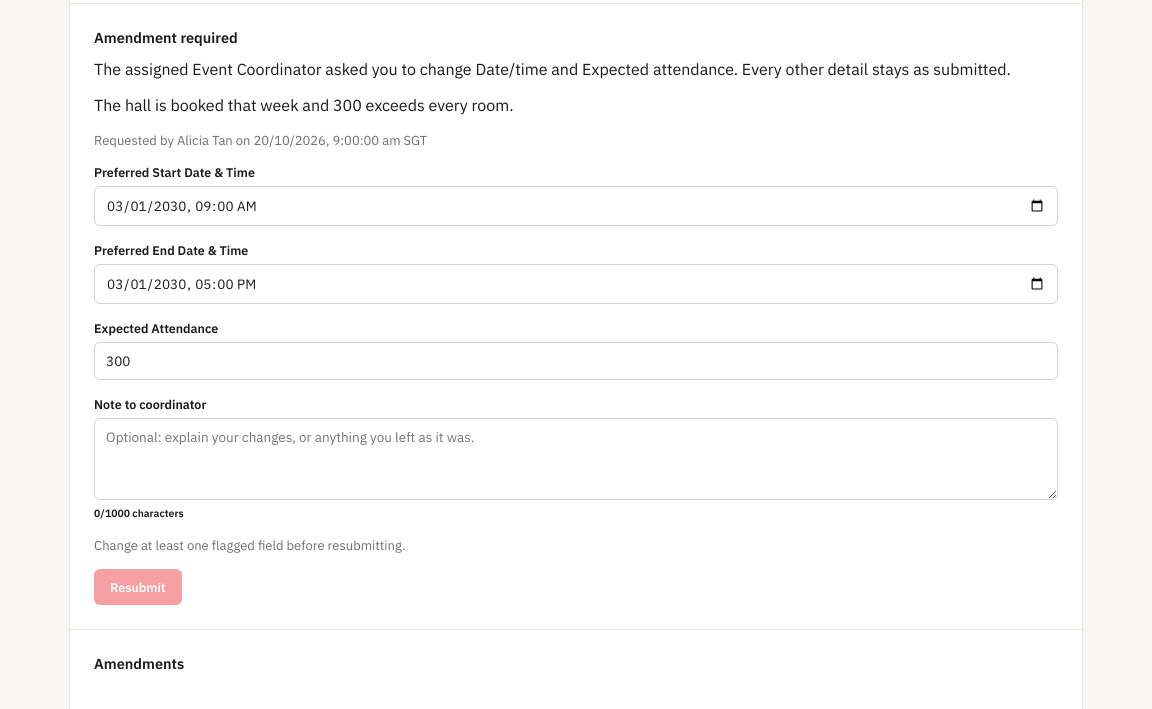
Test case: AC4: only the changed flagged fields are sent, and the event returns to Submitted
The width and height of the screenshot is (1152, 709).
(page scrolled)
Replace the text in the number field labelled "Expected Attendance" with "120" at (576, 361), box [94,342,1058,380]
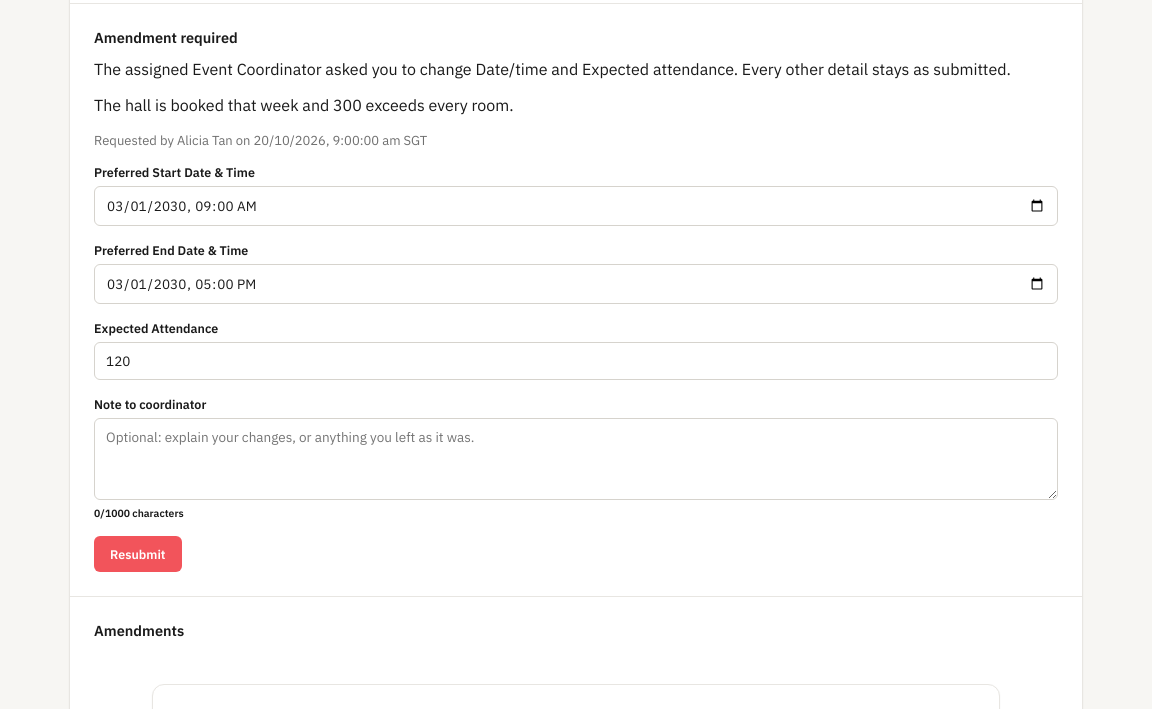
Replace the text in the text box labelled "Note to coordinator 0/1000 characters" with "  Trimmed the guest list.  " at (576, 459), box [94,418,1058,500]
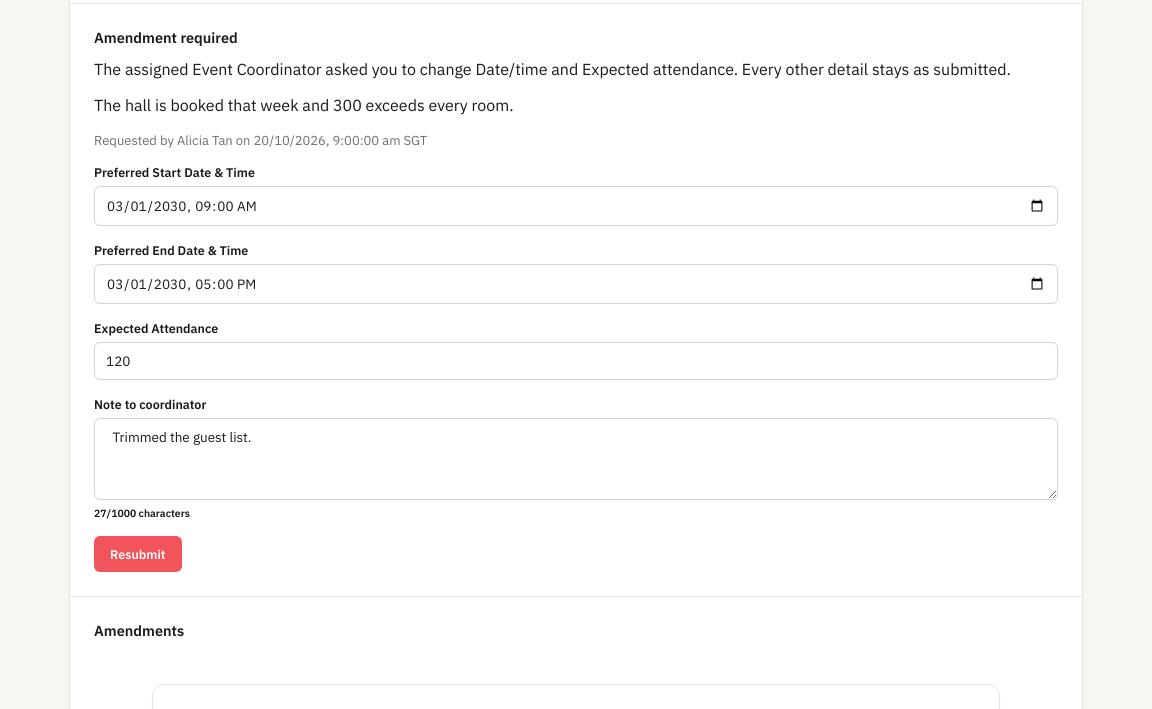
Click the button "Resubmit" at (138, 554), box [94,536,182,572]
(page scrolled)
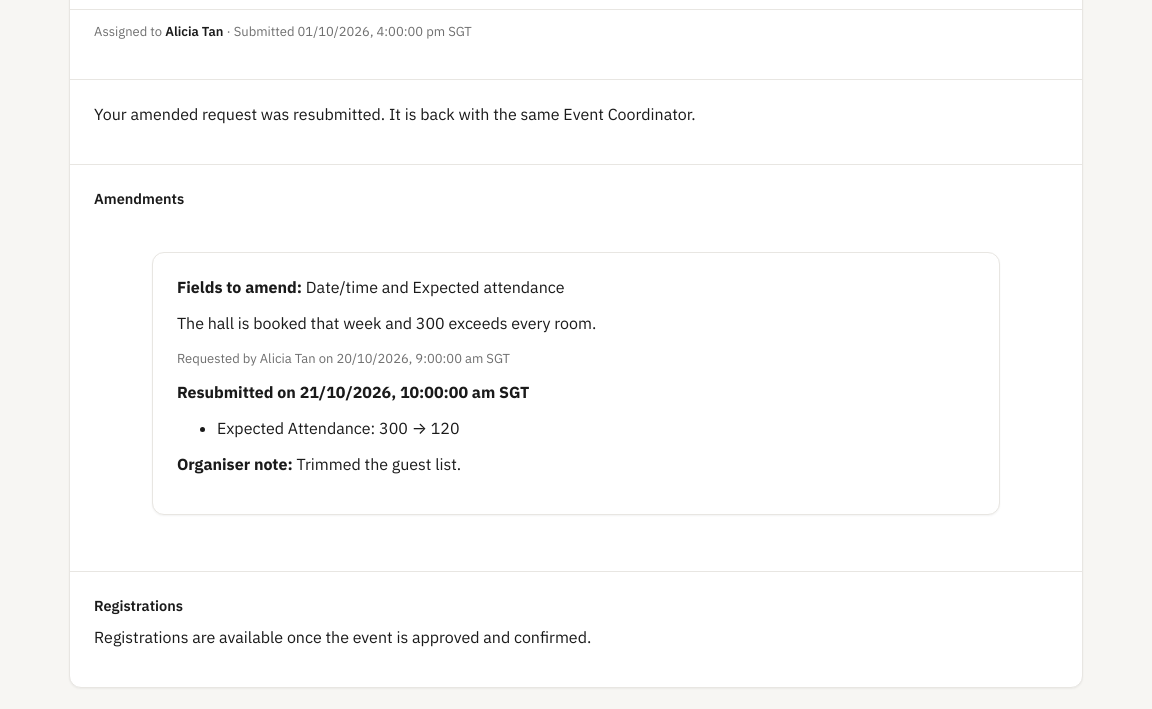
Result: the text "Your amended request was resubmitted. It is back with the same Event Coordinator." is shown at [94,104,696,124]
Result: the heading "Amendment required" is gone
Result: the list item "Expected Attendance: 300 → 120" is shown at [217,418,460,438]
